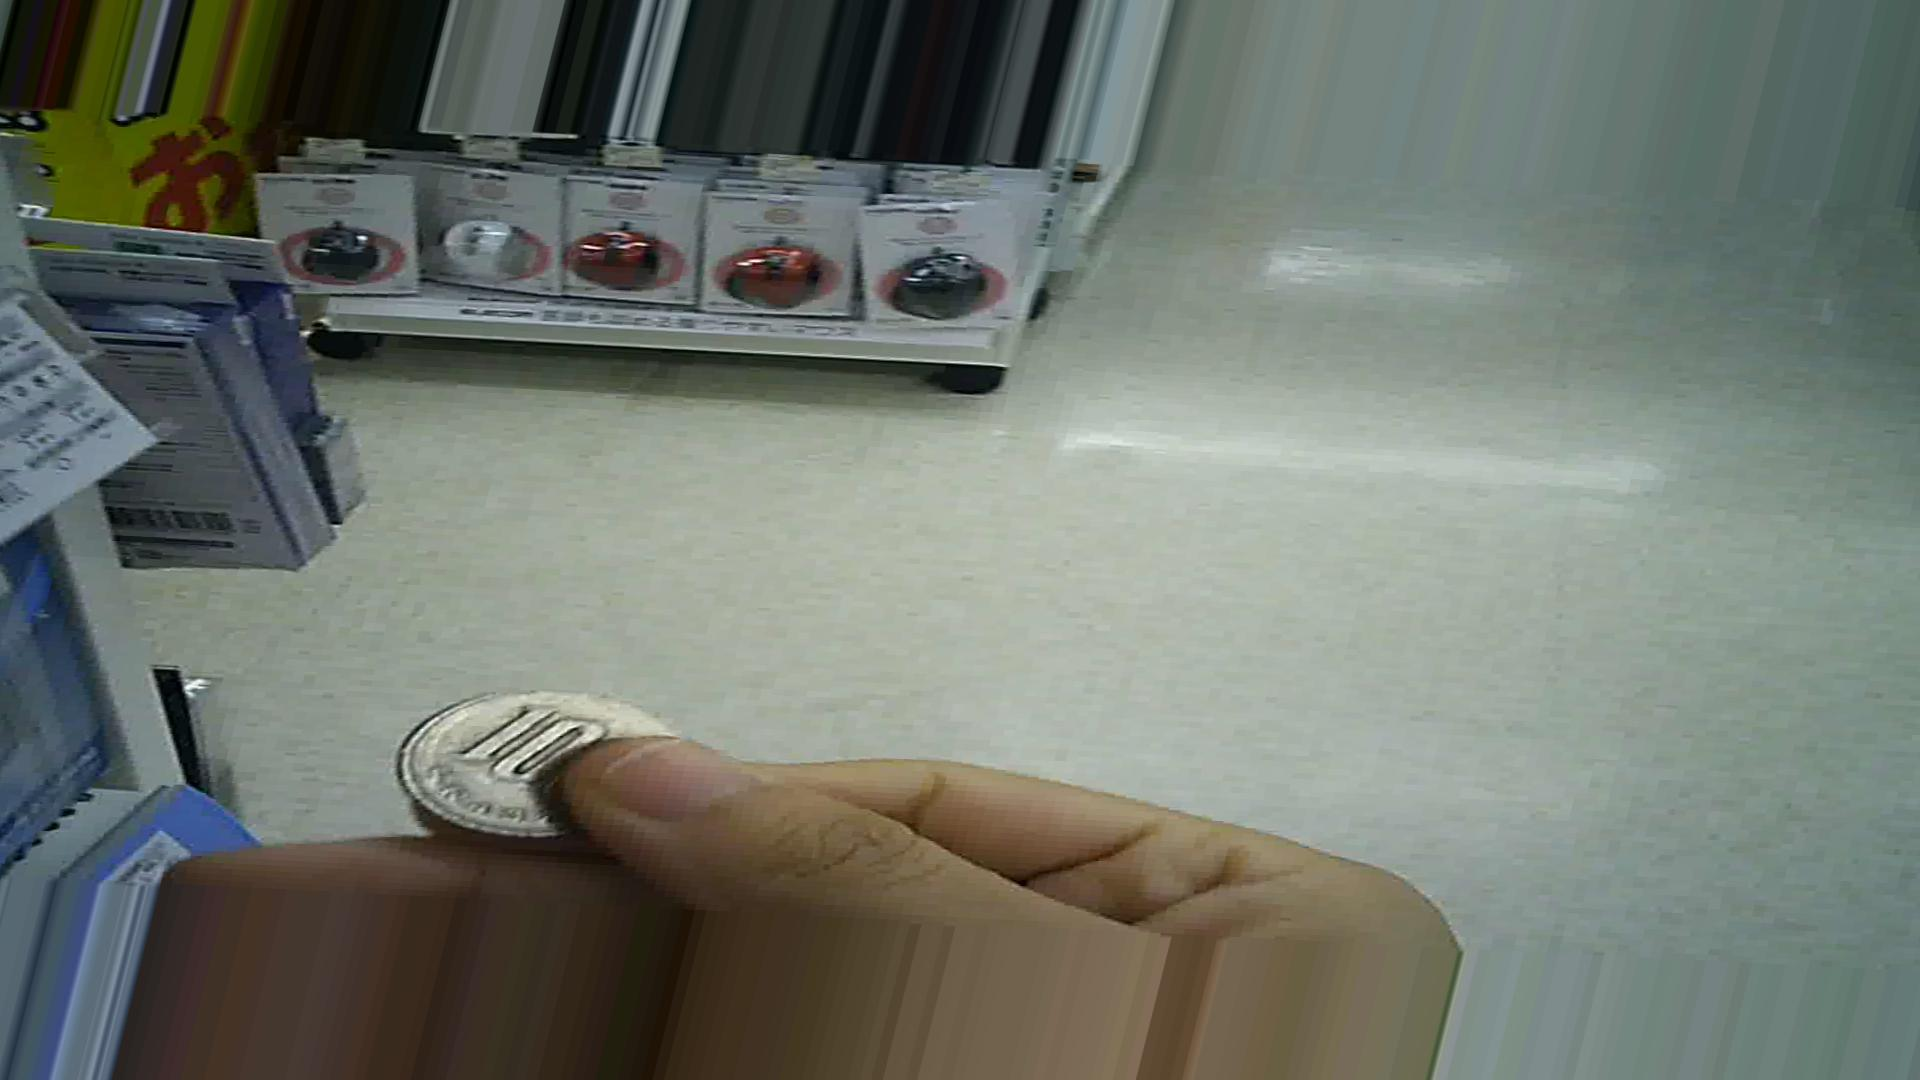100 Yen: (375, 679, 675, 833)
